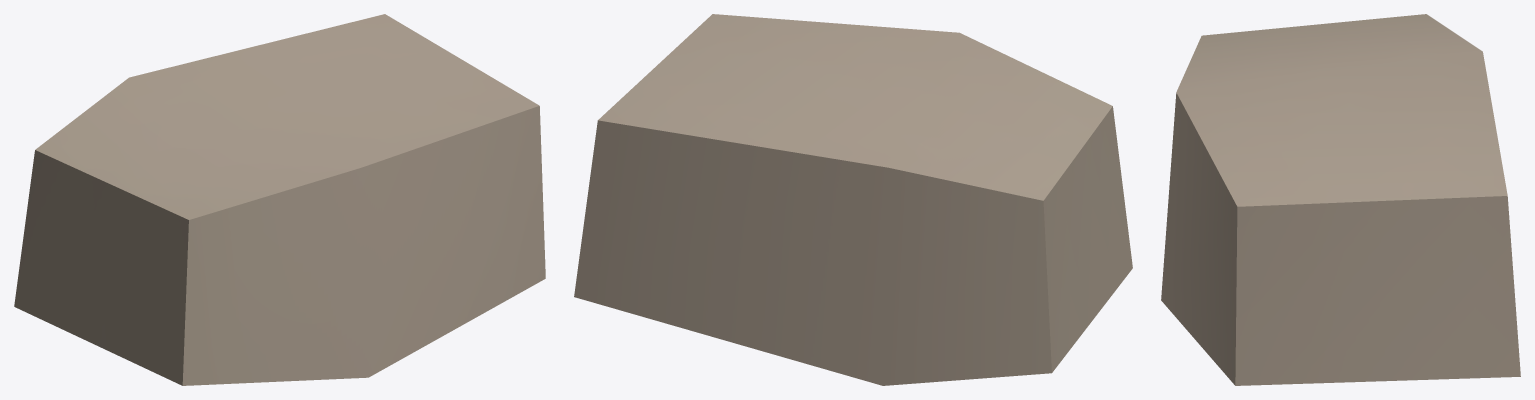
File: FX_stone_A.FBX
3 renders of one model, left to right at view 1: azimuth 30°, elevation 25°; view 2: azimuth 150°, elevation 25°; view 3: azimuth 270°, elevation 25°, orthographic. The views are drawn at different scales.
Visible parts, largest first — view 1: FX_stone_A; view 2: FX_stone_A; view 3: FX_stone_A.
Part boxes in pixels (box(x1,y1,x2,y2)): FX_stone_A: box(14, 14, 545, 385); FX_stone_A: box(574, 14, 1132, 385); FX_stone_A: box(1161, 14, 1520, 385).
Bounding box in the file's own units: 31.08 × 14.07 × 22.04.
1 material, 1 textured.
